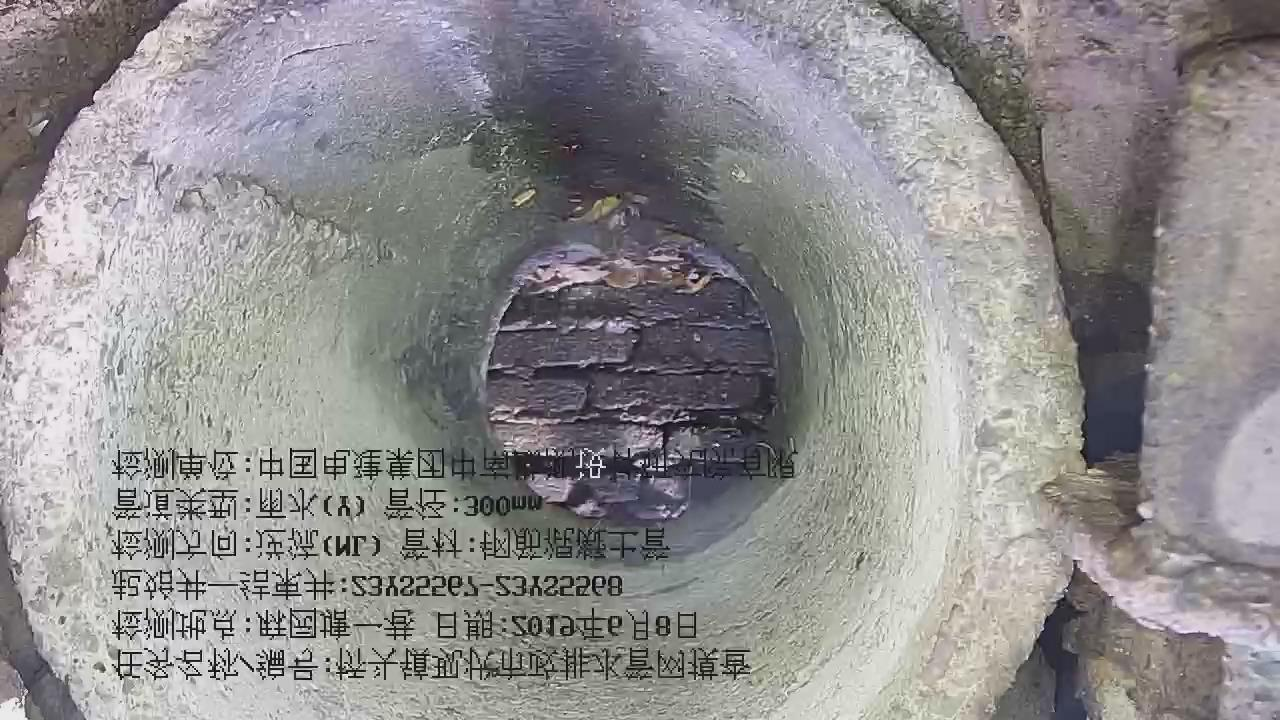CQBG: (484, 235, 778, 518)
